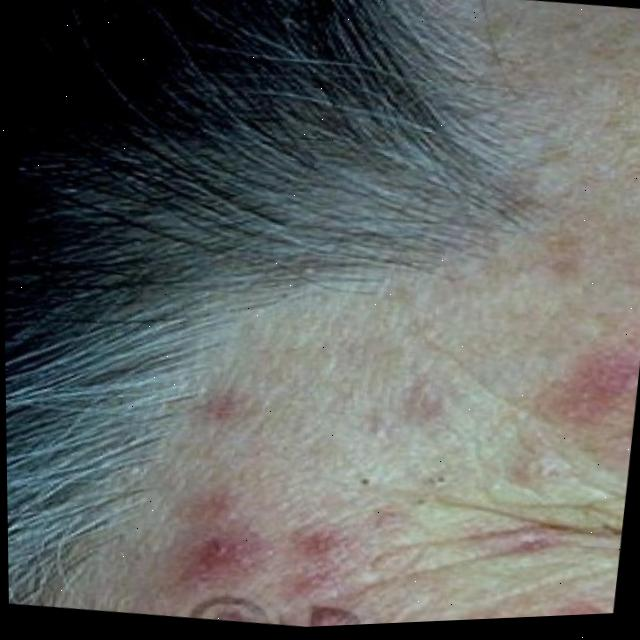Rosacea: (174, 371, 379, 604), (550, 343, 640, 408)
